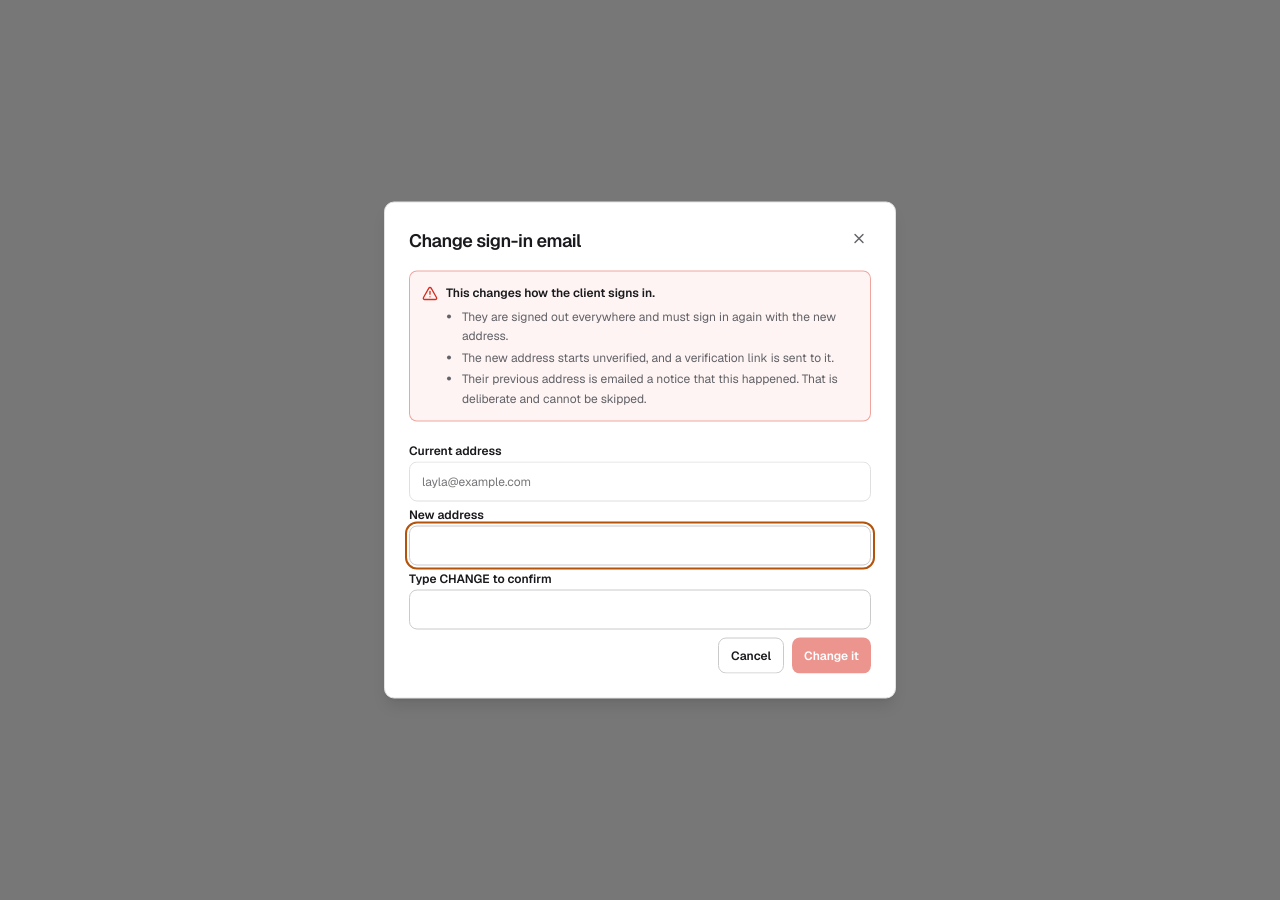
Scenario: ChangeClientEmailDialog › stays disabled until the confirmation word is typed
Expected: the button "Change it" is disabled, x1=792 y1=638 x2=871 y2=674
Step 1. Type "moved@example.com" into the field labelled "New address" → (640, 546), box x1=409 y1=526 x2=871 y2=566
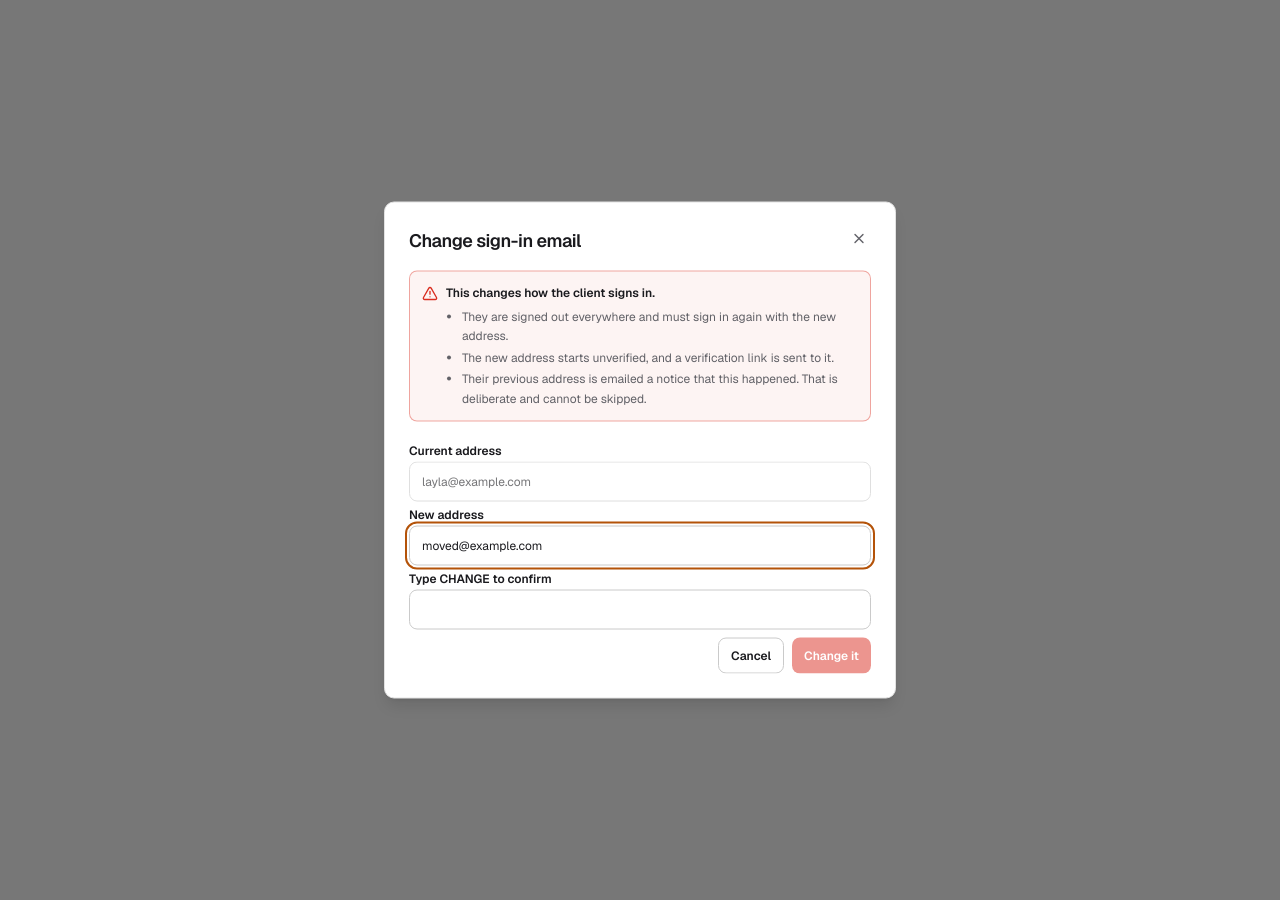
Expected: the button "Change it" is disabled, x1=792 y1=638 x2=871 y2=674
Step 2. Type "CHANGE" into the field labelled "Type CHANGE to confirm" → (640, 610), box x1=409 y1=590 x2=871 y2=630
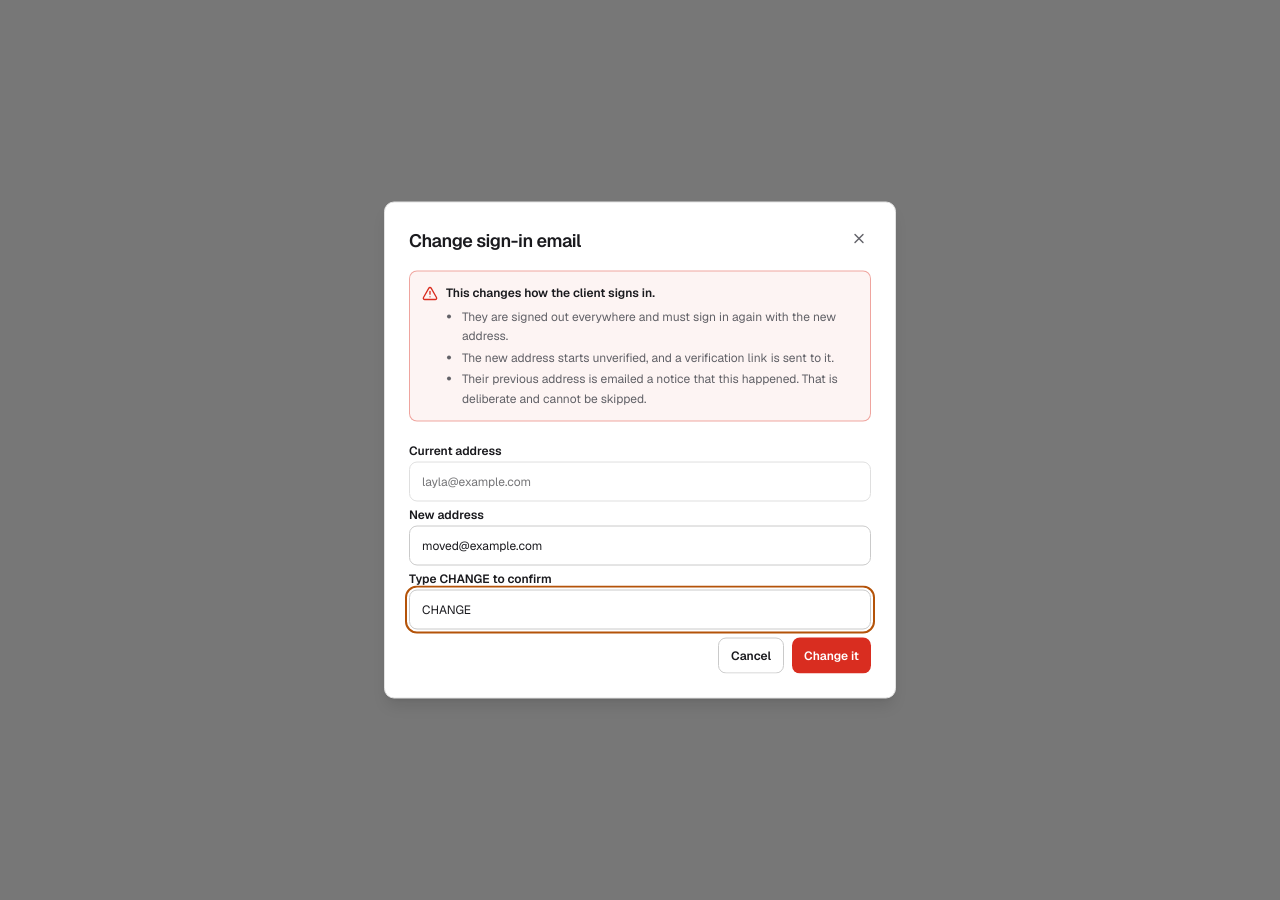
Now the button "Change it" is enabled, box x1=792 y1=638 x2=871 y2=674
